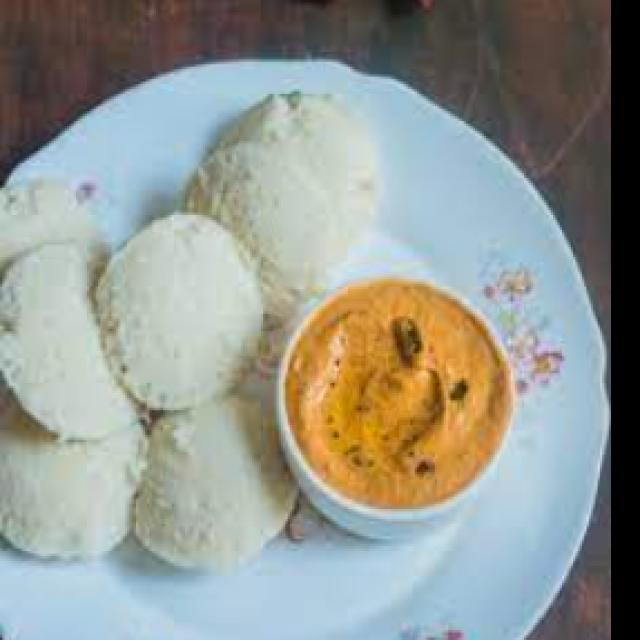peanut chutney: (325, 283, 511, 504)
